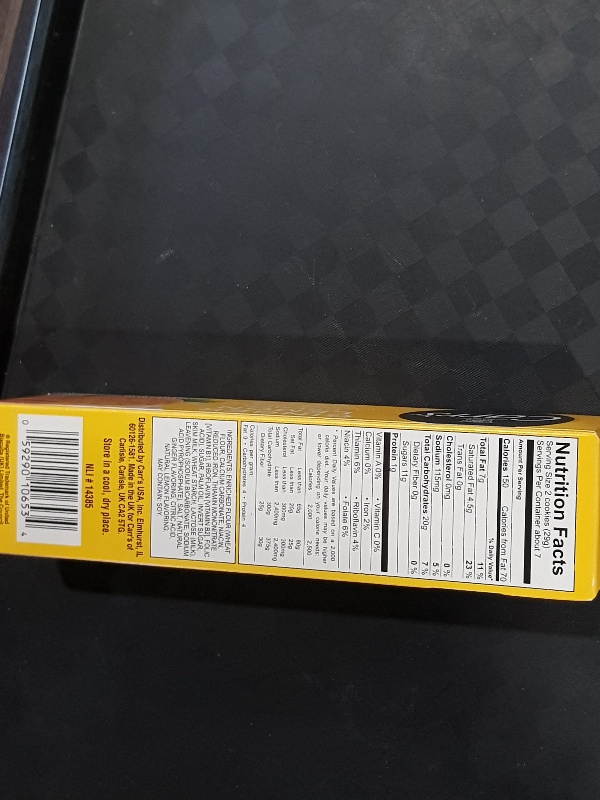Carr's Ginger Lemon Cremes: (1, 387, 599, 607)
